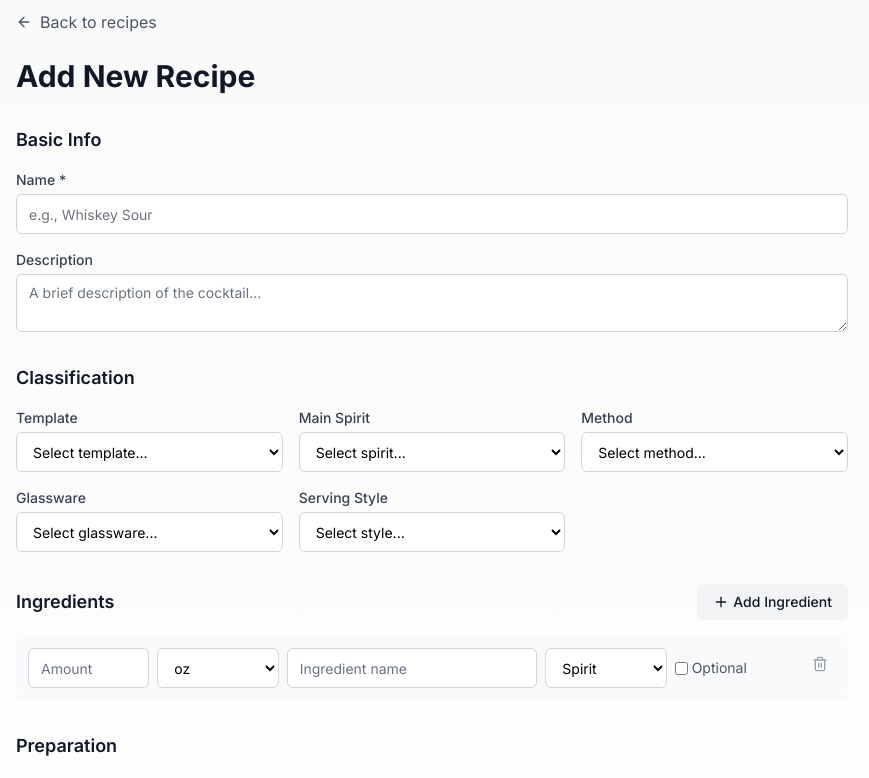
Test: NewRecipePage › Ingredient Management › adds ingredient row
Click the button "Add Ingredient": [773, 602] box [697,584,848,620]
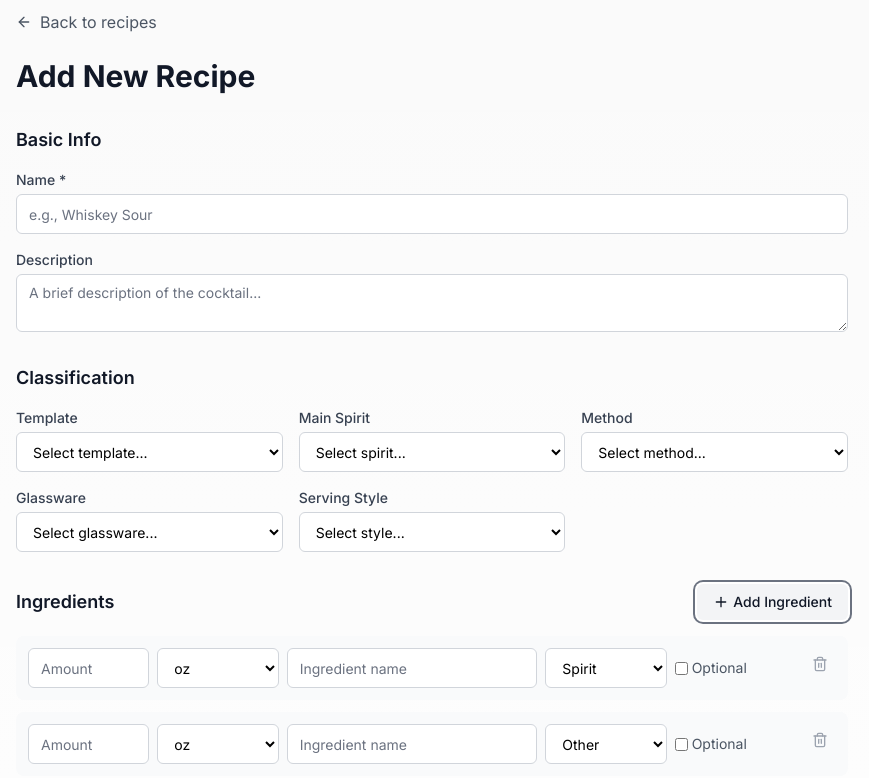
Result: the number of fields with placeholder "Ingredient name" is 2 at [287,648,537,688]; [287,724,537,764]
